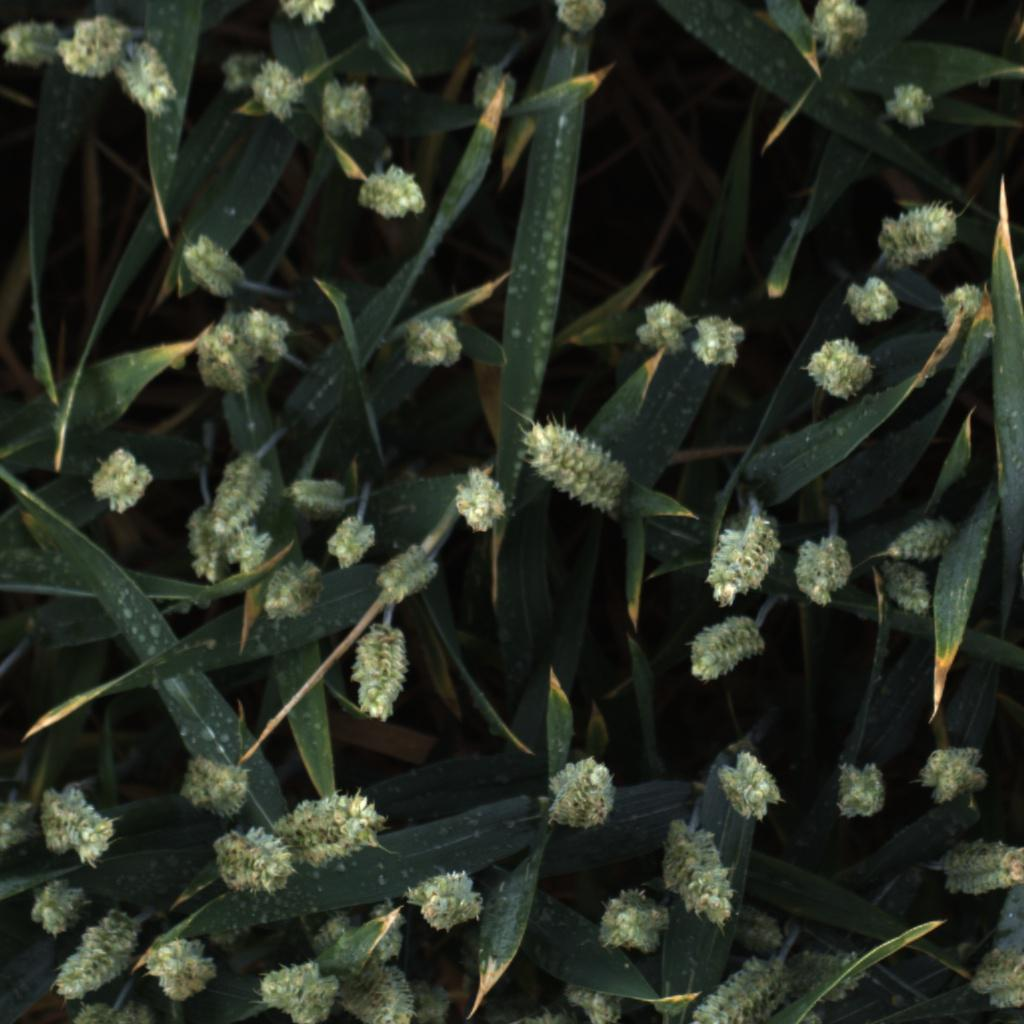0-0: (518, 411, 625, 515), (277, 785, 383, 870), (654, 817, 734, 928), (48, 912, 142, 1005), (344, 618, 419, 727), (206, 822, 304, 903), (661, 961, 785, 1024), (701, 511, 778, 609), (42, 777, 121, 869), (875, 192, 963, 271), (250, 955, 346, 1024), (933, 834, 1024, 905), (117, 35, 189, 123), (50, 8, 130, 85), (685, 613, 766, 689), (544, 755, 620, 835), (797, 333, 880, 406), (593, 882, 671, 959), (199, 458, 274, 538), (786, 935, 869, 1007), (403, 867, 485, 938), (715, 750, 787, 828), (788, 528, 855, 611), (176, 228, 250, 303), (241, 55, 315, 130), (442, 465, 518, 537), (912, 739, 990, 808), (137, 935, 217, 1002), (355, 162, 435, 228), (310, 73, 384, 144), (182, 750, 258, 818), (827, 750, 894, 826), (628, 293, 697, 366), (189, 323, 257, 397), (82, 446, 158, 512), (833, 272, 910, 337), (401, 308, 472, 378), (256, 561, 330, 625), (369, 550, 437, 617), (344, 963, 416, 1024), (872, 520, 957, 570), (966, 943, 1024, 1015), (456, 56, 528, 114), (808, 0, 873, 64), (684, 312, 751, 374), (728, 901, 796, 960), (182, 499, 224, 593), (0, 8, 56, 78), (929, 277, 993, 337), (279, 473, 360, 520), (322, 512, 384, 573), (876, 77, 941, 135), (30, 876, 90, 937), (218, 516, 275, 575), (876, 567, 936, 623), (558, 976, 625, 1024), (235, 305, 297, 356), (360, 896, 406, 963), (267, 0, 357, 31), (217, 45, 262, 102), (537, 0, 608, 35), (1, 792, 44, 848), (201, 915, 258, 953), (310, 911, 353, 955), (71, 1006, 161, 1024), (415, 978, 450, 1024), (512, 1010, 569, 1024)
